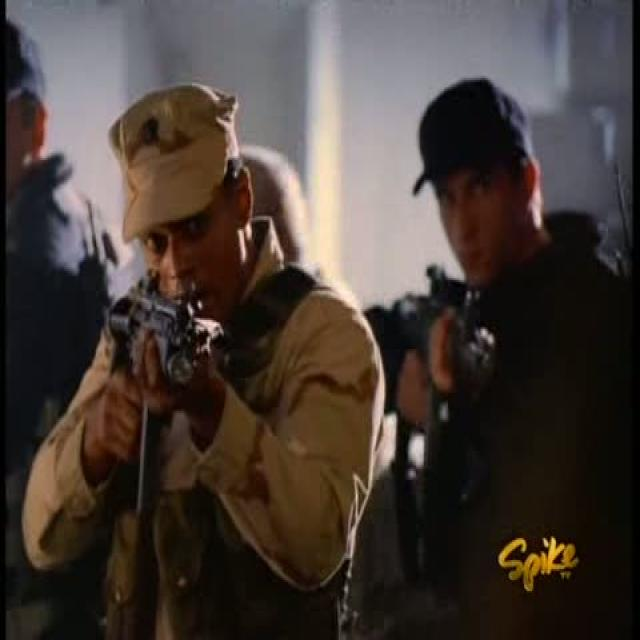rifle: (100, 281, 211, 513)
